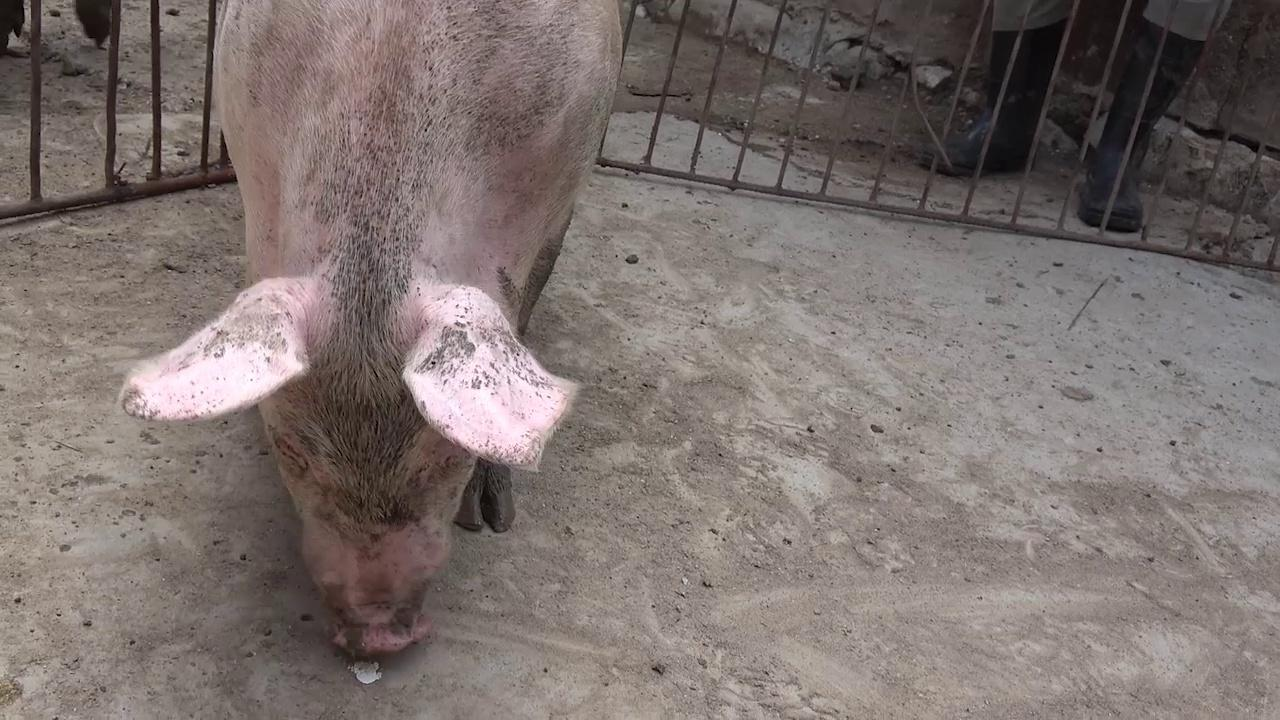Face: (117, 279, 592, 672)
